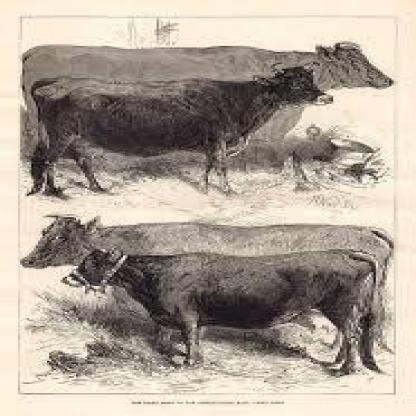cow: (20, 213, 398, 356), (60, 243, 393, 378), (26, 61, 336, 204), (22, 40, 398, 144)
